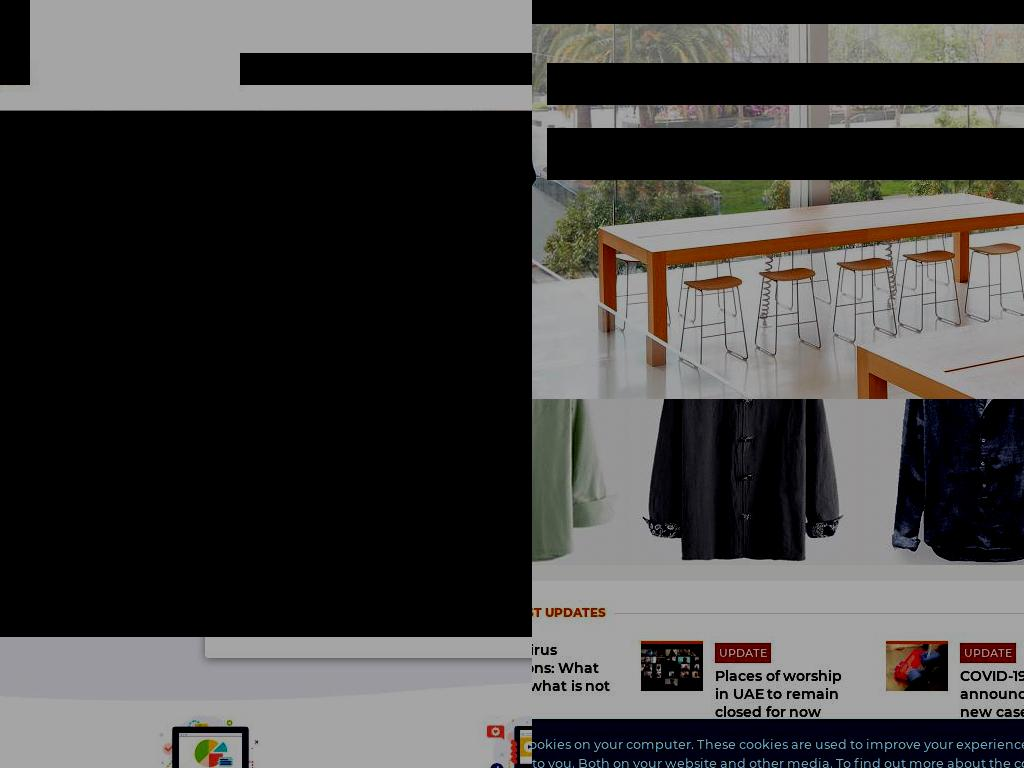button: (0, 111, 532, 399), (241, 564, 532, 610), (640, 641, 703, 691), (886, 641, 949, 691), (633, 0, 698, 24), (753, 0, 814, 24), (963, 0, 1021, 24), (421, 618, 508, 632), (532, 0, 578, 24), (869, 0, 908, 24)
field: (547, 128, 1024, 180), (241, 54, 424, 84), (241, 399, 422, 420), (424, 54, 532, 84), (442, 399, 532, 420)
heading: (547, 63, 1024, 105), (714, 667, 843, 721), (960, 667, 1024, 739), (532, 641, 611, 695), (532, 606, 606, 620)
iframe: (532, 399, 1024, 565)
image: (0, 111, 532, 399), (0, 399, 532, 637), (144, 712, 266, 768), (469, 712, 532, 768), (640, 641, 703, 688), (886, 641, 949, 688), (547, 128, 588, 172)
text: (0, 471, 206, 550), (532, 737, 1024, 768), (241, 437, 532, 458), (283, 579, 532, 596), (272, 461, 360, 488), (255, 618, 422, 631), (462, 461, 532, 488), (462, 491, 528, 518), (272, 491, 330, 518), (251, 399, 351, 412), (452, 399, 532, 412), (272, 522, 309, 549), (718, 647, 767, 659), (964, 647, 1013, 659), (507, 618, 532, 631)
